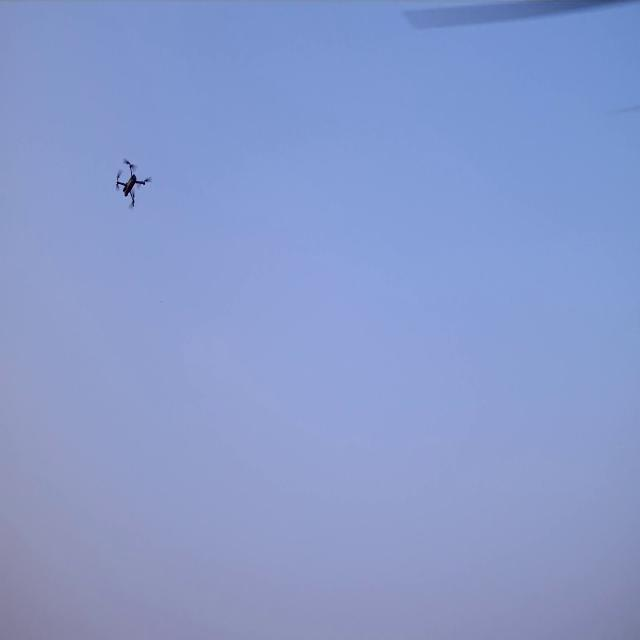UAV: (116, 161, 148, 206)
